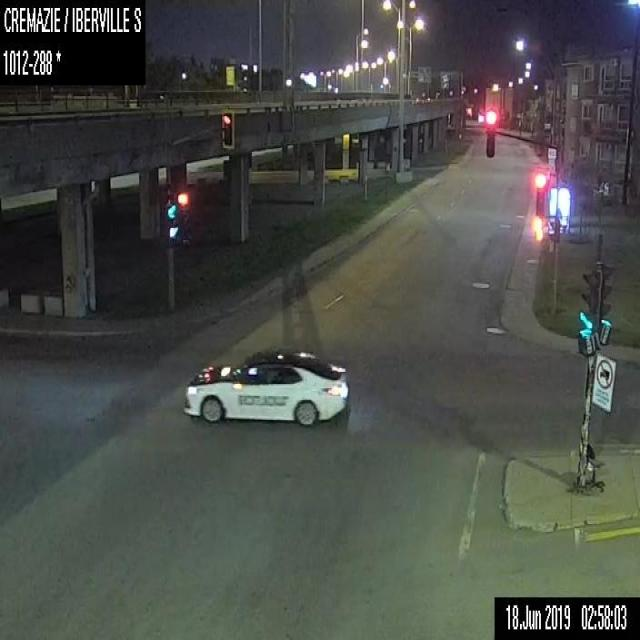vehicle: (183, 345, 349, 424), (414, 95, 425, 104), (422, 95, 432, 104)
